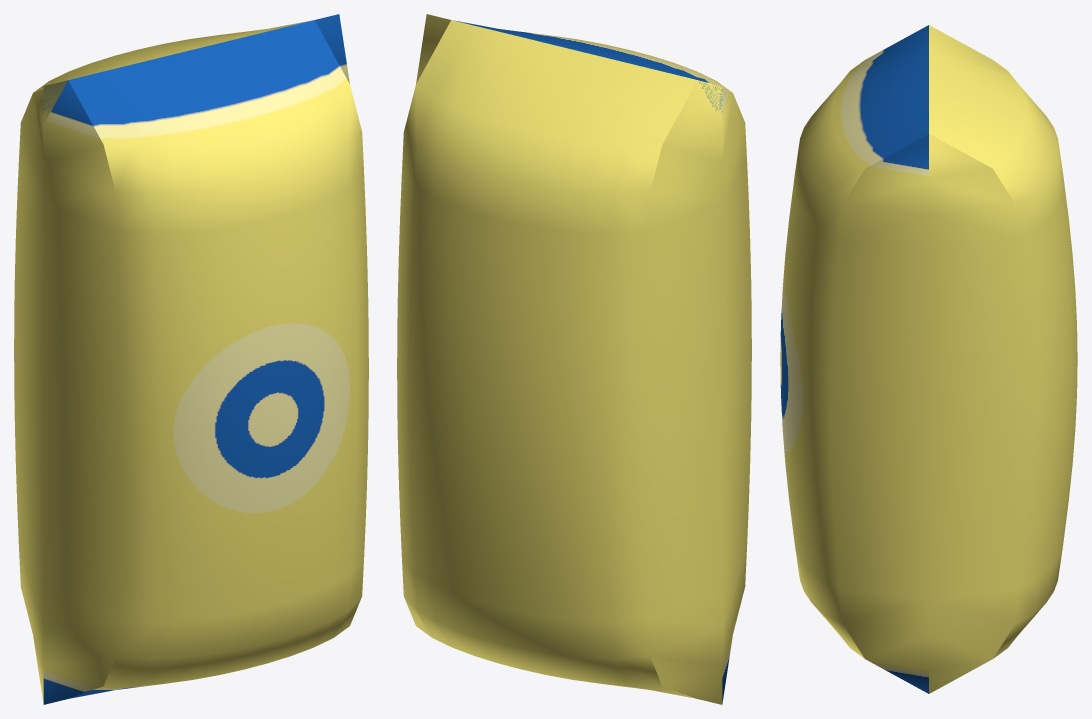
File: Frozen_Fries.fbx
The picture shows the model from 3 angles, left to right: view 1: azimuth 30°, elevation 25°; view 2: azimuth 150°, elevation 25°; view 3: azimuth 270°, elevation 25°; orthographic projection. The views are drawn at different scales.
Visible parts, largest first — view 1: Frozen_Fries; view 2: Frozen_Fries; view 3: Frozen_Fries.
Boxes of the visible parts, bbox=[...] form: Frozen_Fries: bbox=[14, 14, 368, 704]; Frozen_Fries: bbox=[397, 14, 751, 704]; Frozen_Fries: bbox=[780, 25, 1077, 693].
Bounding box in the file's own units: 0.13 × 0.26 × 0.125.
Materials: 2 (1 with a texture image).
